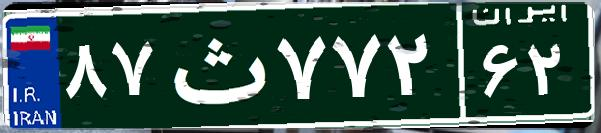2: (385, 28, 445, 110), (525, 38, 570, 115)
6: (475, 38, 525, 113)
7: (273, 28, 330, 110), (330, 28, 385, 110), (110, 28, 158, 105)
8: (57, 26, 110, 107)
ث: (158, 15, 273, 115)
